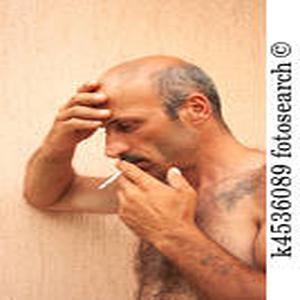cigarette: (97, 167, 126, 193)
